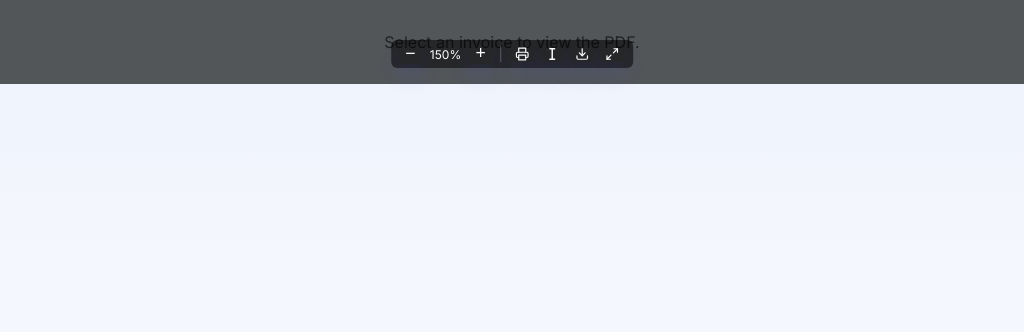
Test: PdfViewer › decreases zoom when zoom out is clicked
Click the button titled "Zoom out" at (410, 54), box [399,44,422,64]
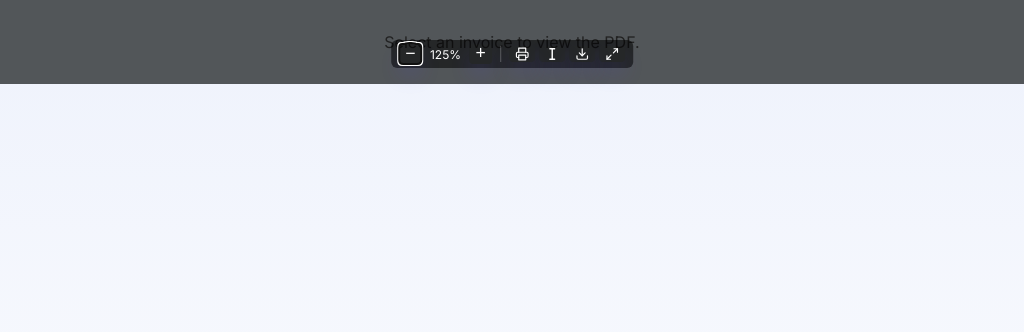
Result: the text "125%" is shown at [430,47,461,62]
